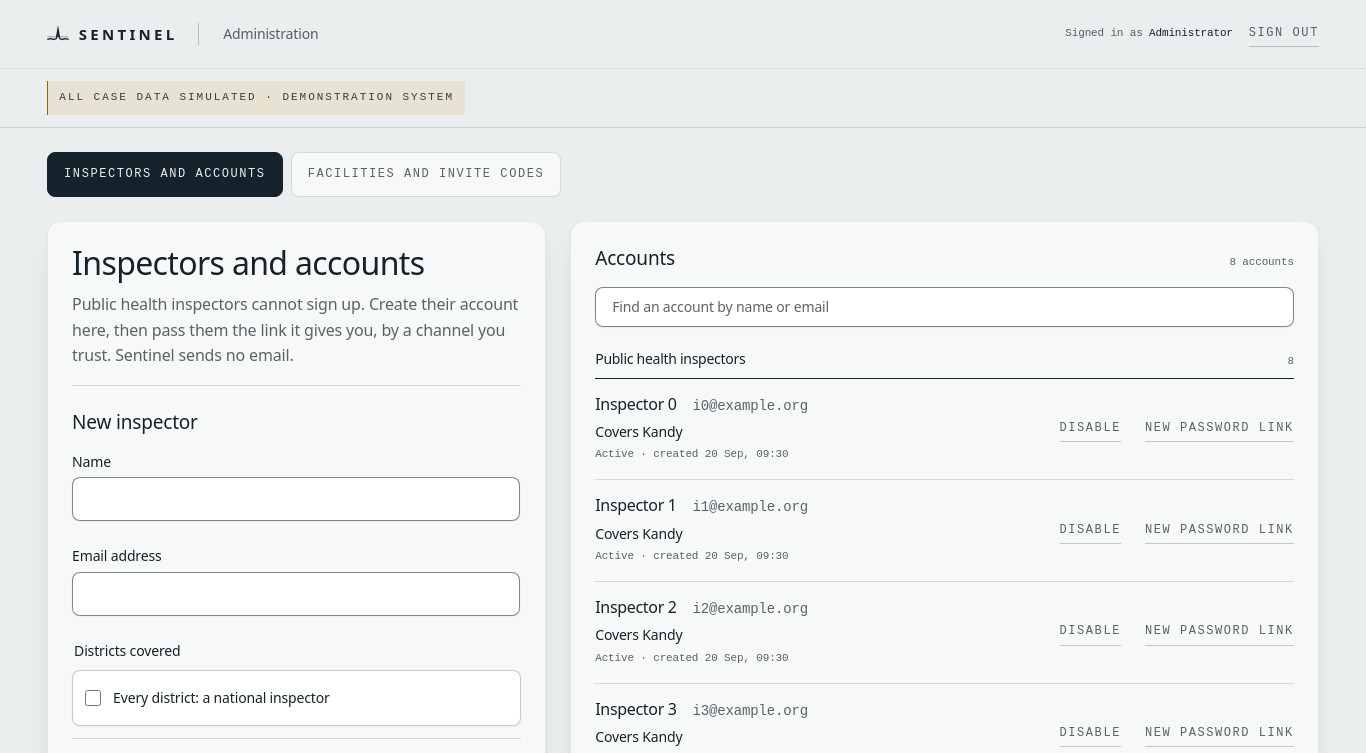
AdminPage: accounts › offers a search once the list is long, matching names and emails
The image size is (1366, 753).
Type "kp@x" into the search field labelled "Find an account" at (945, 307), box [595, 287, 1294, 327]
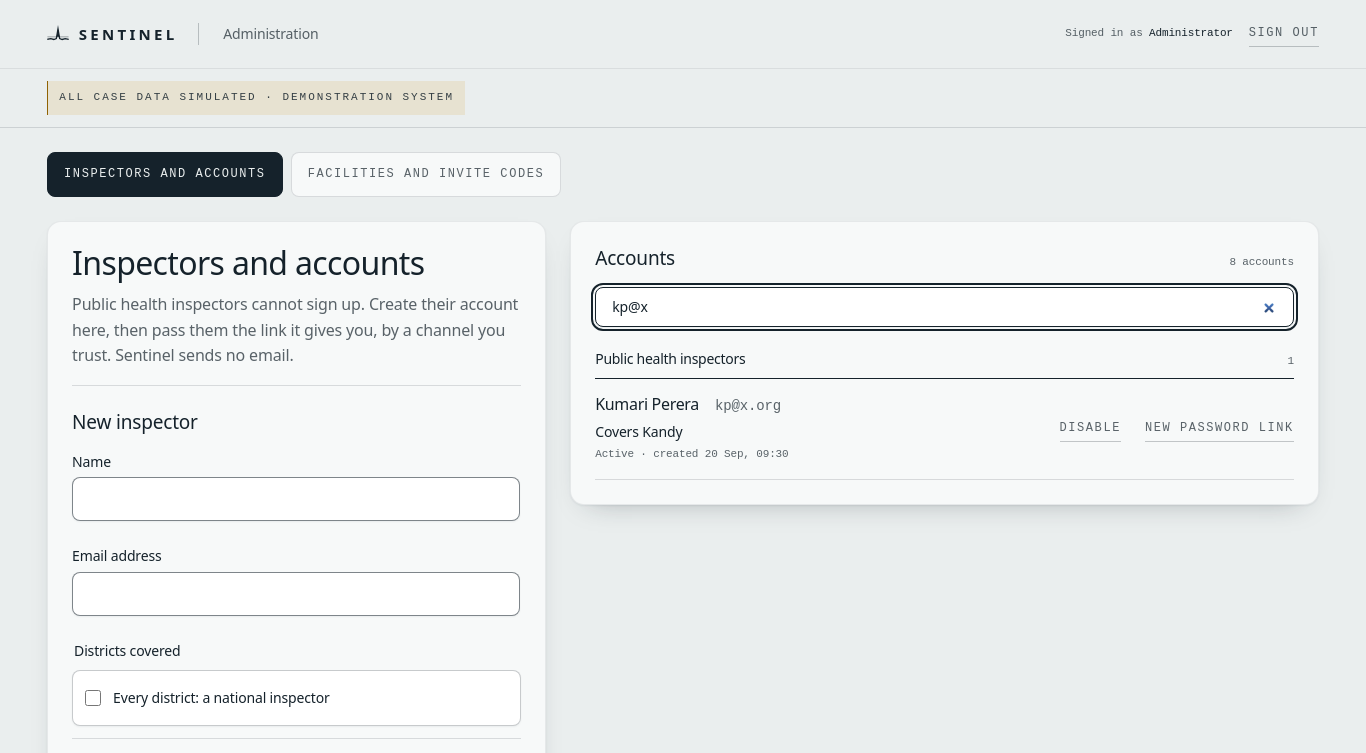
Expected: the element "Kumari Perera" is shown, [595, 379, 1294, 480]
Result: the heading "Inspector 0" is gone
Replace the text in the search field named "Find an account" with "nobody" at (945, 307), box [595, 287, 1294, 327]
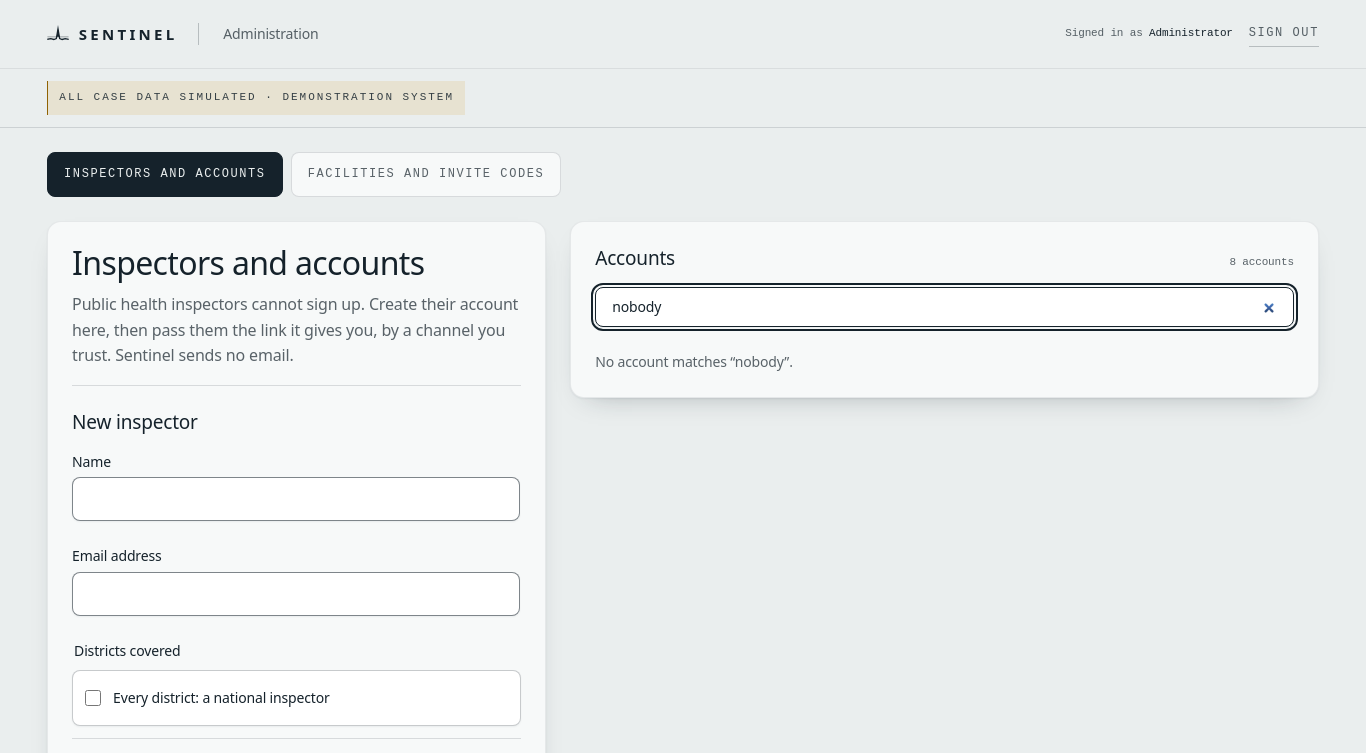
Result: the text "No account matches “nobody”." is shown at [595, 352, 793, 371]
